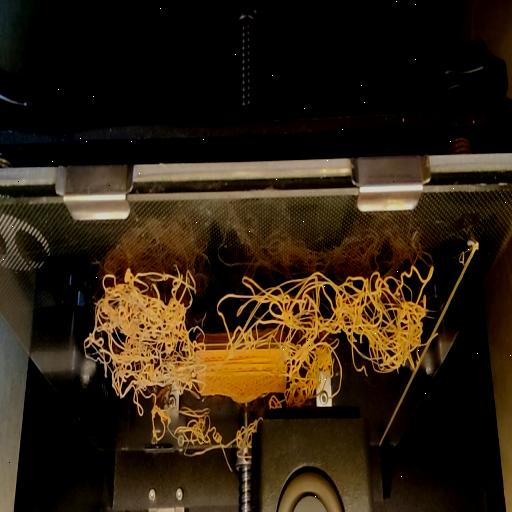spaghetti: (84, 257, 437, 409), (148, 409, 256, 477)
